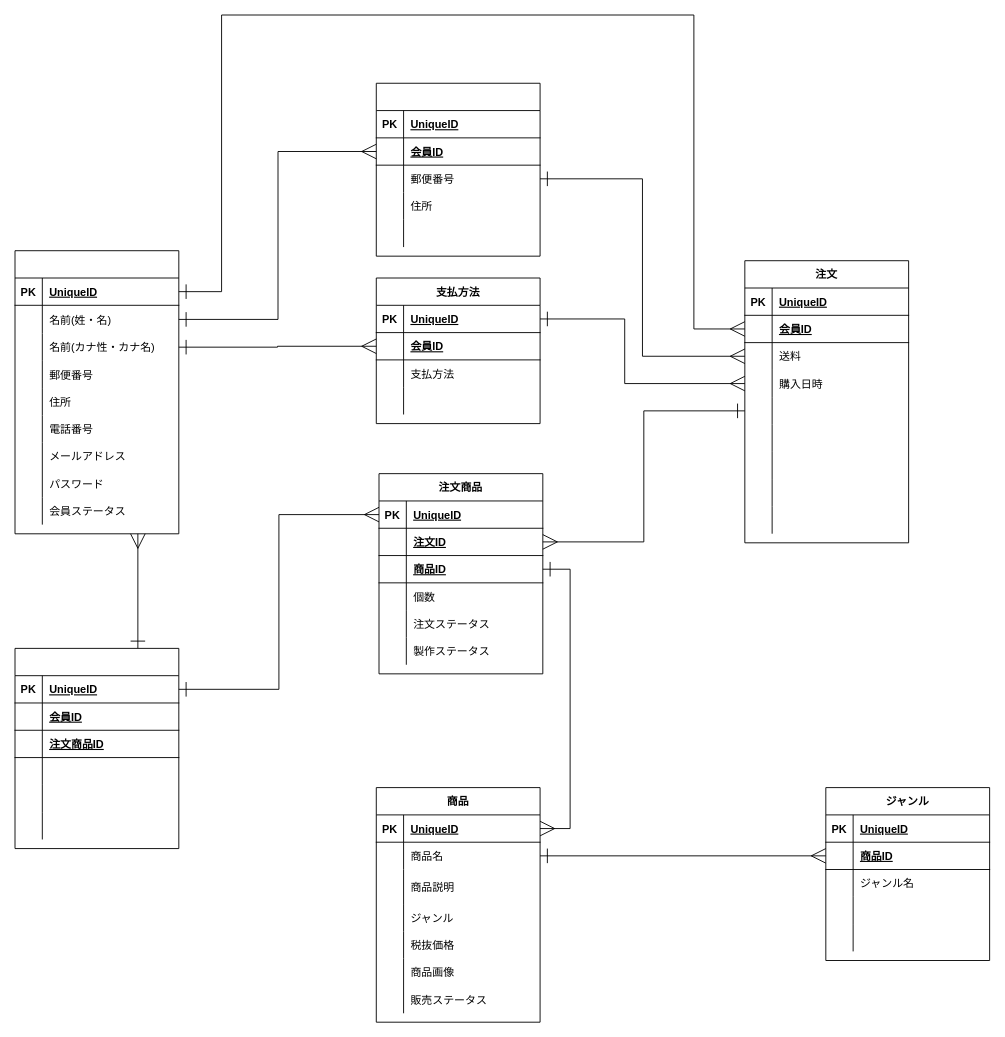
The diagram is 1005 pixels wide and 1037 high, and some of its shapes have lost their labels. Each missing label, with the box of its shape:
カート: (14, 647, 179, 849)
会員: (14, 250, 179, 534)
配送先: (375, 82, 540, 256)
